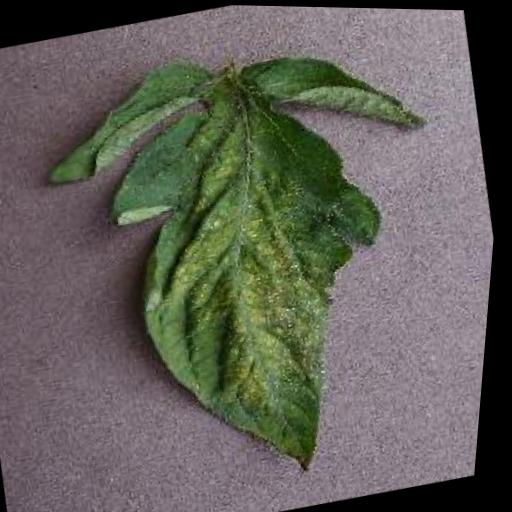Spider Mites: (77, 69, 441, 505)
